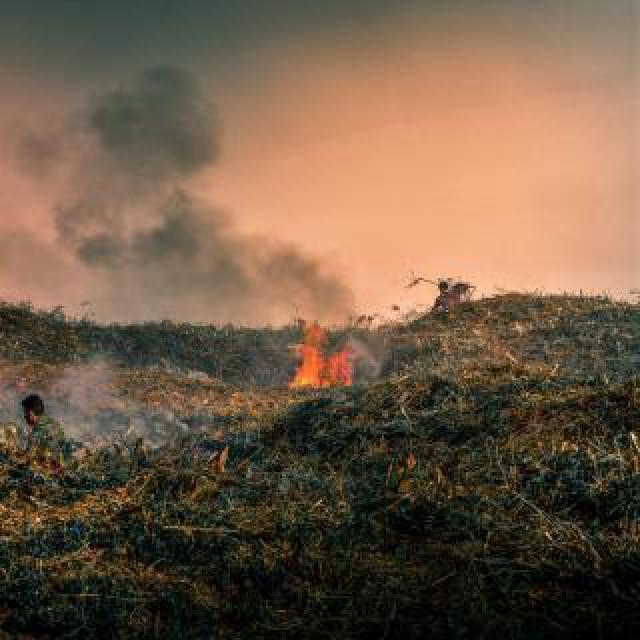Fire: (294, 336, 348, 398)
Smoke: (41, 73, 357, 329), (44, 342, 162, 458)
